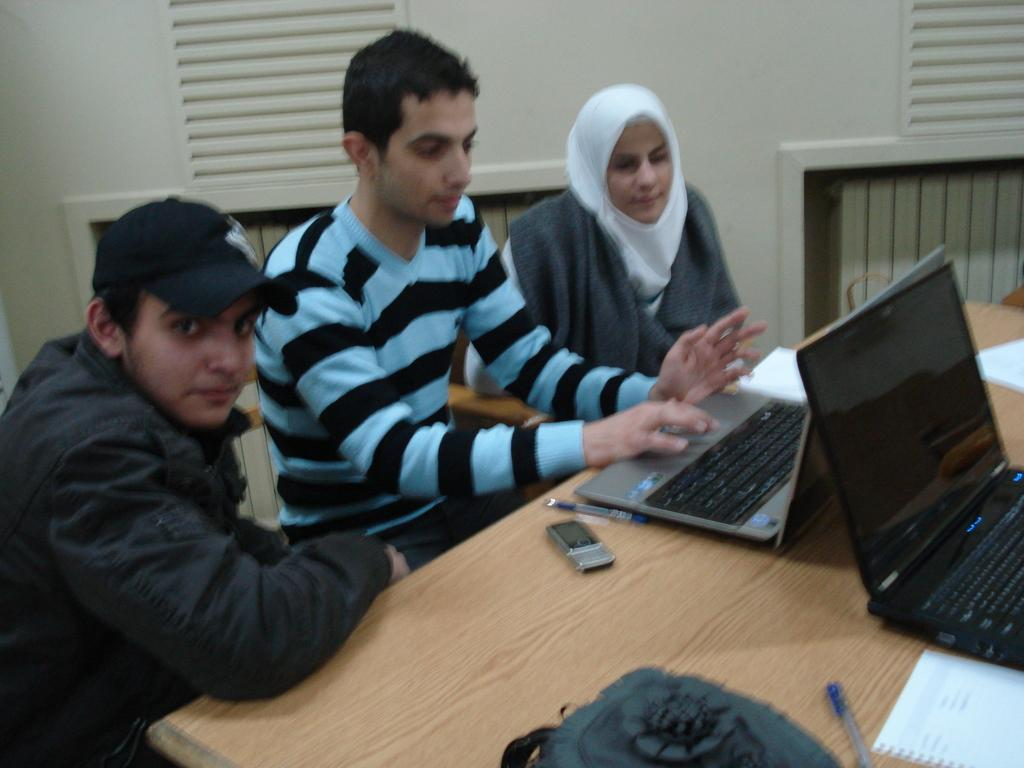Computer-keyboard: (640, 398, 810, 526), (923, 492, 1023, 628)
Laptop: (796, 260, 1023, 668), (560, 311, 836, 566)
